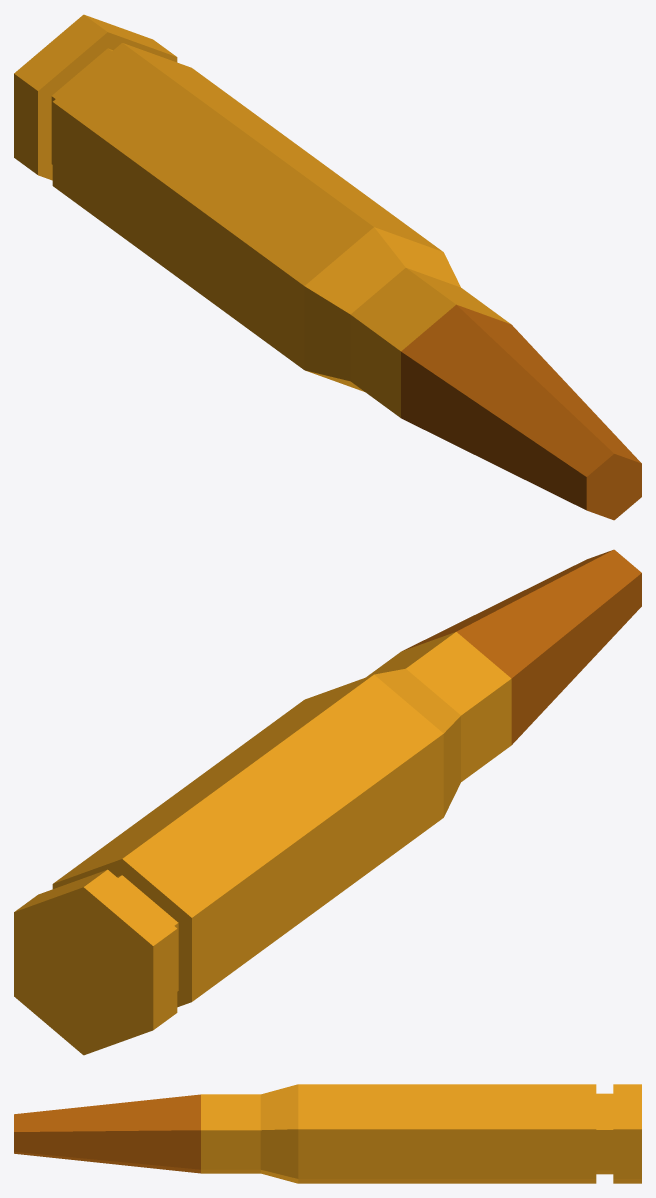
Rendered from Bullet_AR.fbx.
3 views of the same model, one above another, from view 1: azimuth 30°, elevation 25°; view 2: azimuth 150°, elevation 25°; view 3: azimuth 270°, elevation 25° (orthographic). The views are drawn at different scales.
Visible parts, largest first — view 1: Bullet_AR, Bullet_AR_Part; view 2: Bullet_AR, Bullet_AR_Part; view 3: Bullet_AR, Bullet_AR_Part.
Part boxes in pixels (x1,y1,x2,y2): Bullet_AR: (14,14,510,417); Bullet_AR_Part: (401,304,641,520); Bullet_AR: (14,632,511,1055); Bullet_AR_Part: (403,549,641,744); Bullet_AR: (201,1084,641,1183); Bullet_AR_Part: (14,1094,200,1173).
Bounding box in the file's own units: 0.0833 × 0.0962 × 0.5495.
